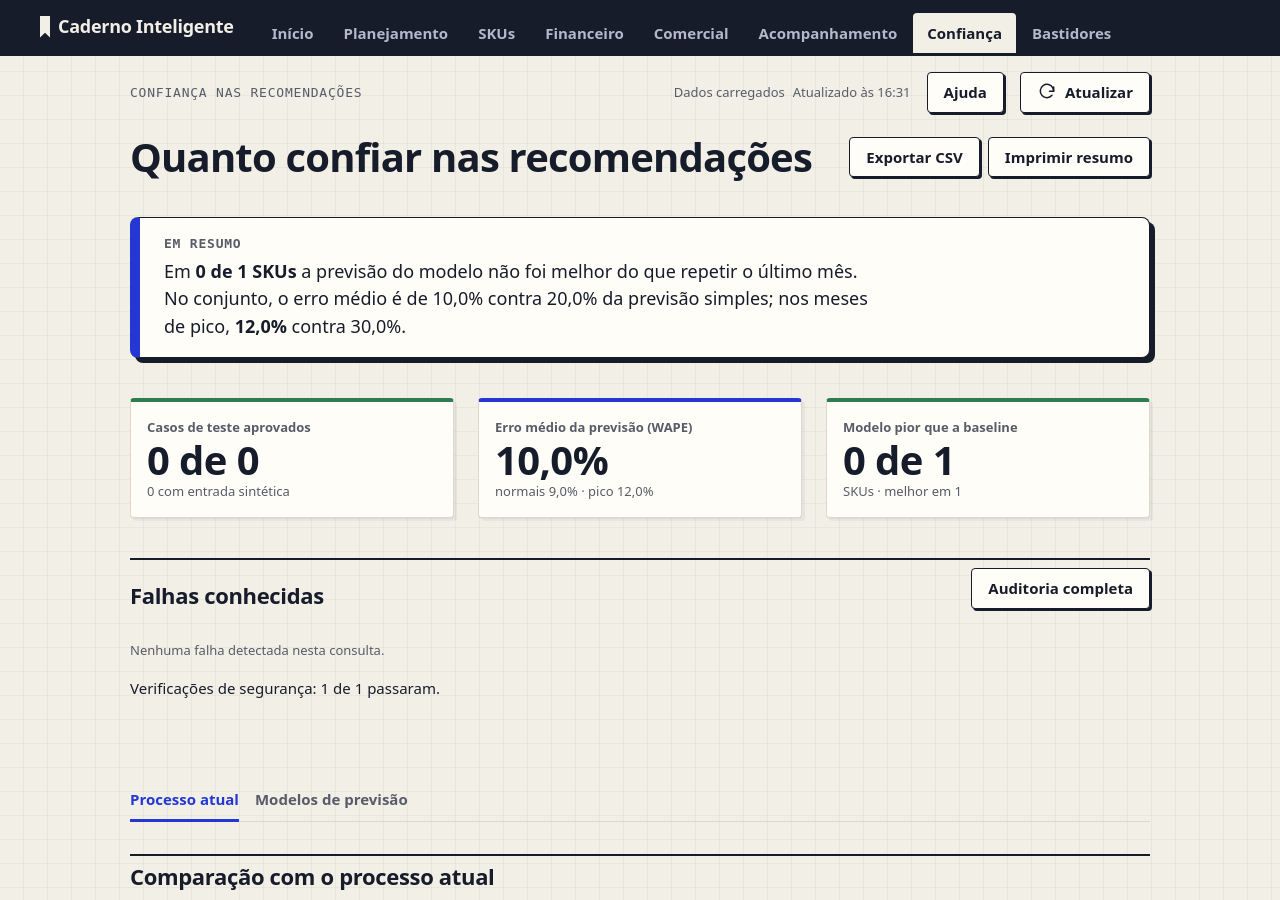
Test case: laboratório de previsão na Validação › a grade de sensibilidade marca a linha padrão uma vez e não esconde a combinação que reprova
The image size is (1280, 900).
Check: the heading "Em resumo" is shown, box [164,236,242,251]
Click the tab "Modelos de previsão". click: x=331, y=801
box: [255,780,408,822]
(page scrolled)
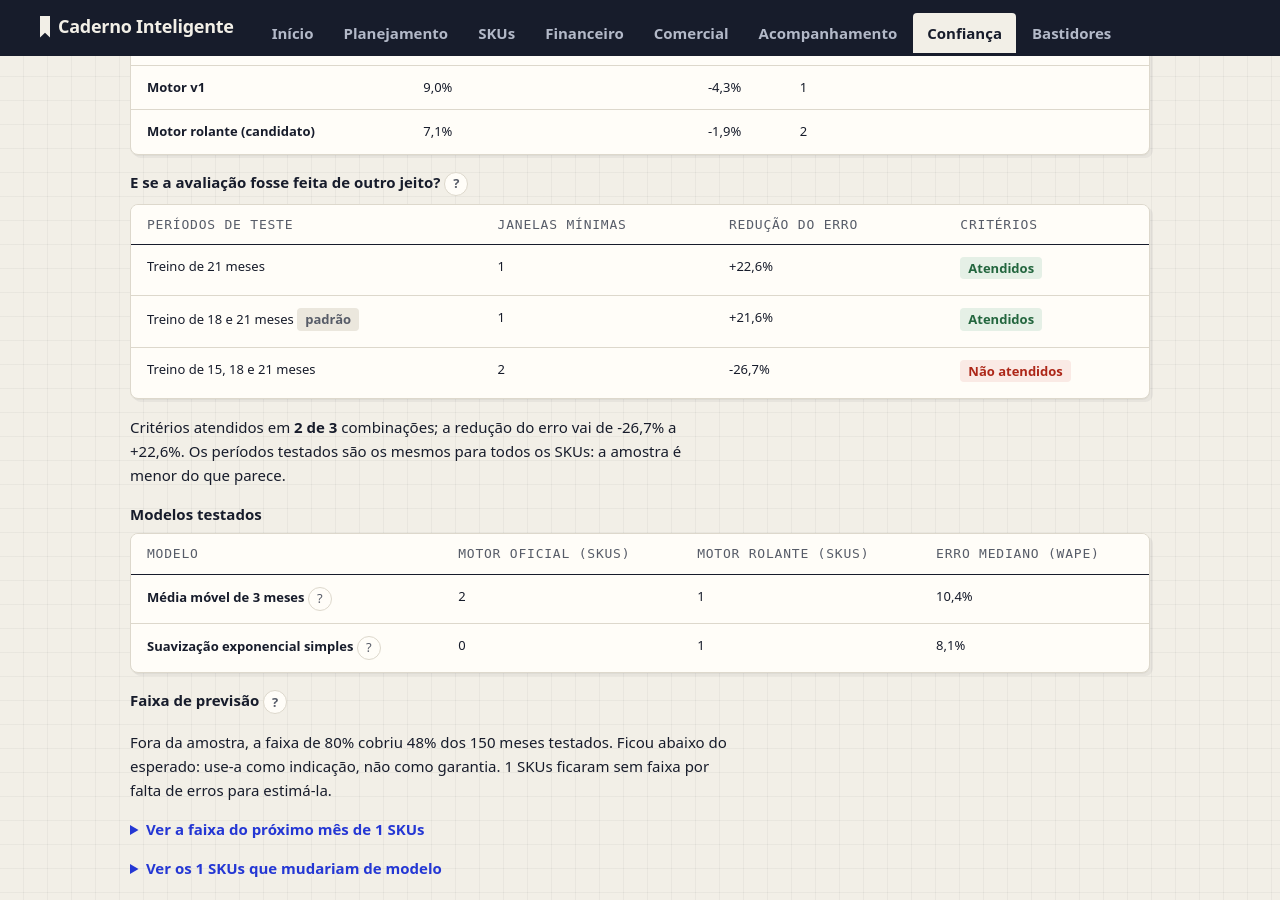
Check: the text "padrão" is shown once, box [297,308,359,331]
Check: the row "Treino de 18 e 21 meses padrão 1 +21,6% Atendidos" is shown, box [131,296,1149,347]
Check: the row "Treino de 15, 18 e 21 meses 2 -26,7% Não atendidos" is shown, box [131,347,1149,398]
